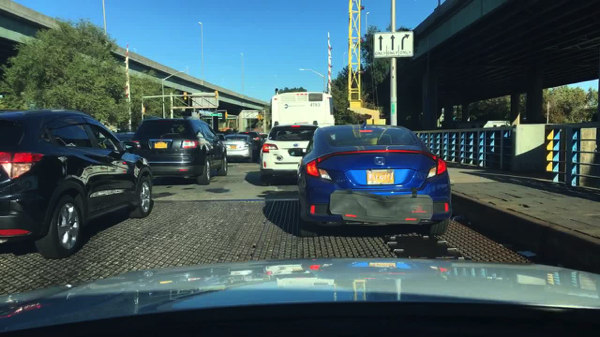bus: (270, 88, 335, 128)
car: (0, 108, 154, 260), (295, 123, 452, 237), (134, 117, 228, 186), (258, 124, 319, 182), (221, 134, 255, 163), (236, 132, 262, 161), (109, 130, 139, 154), (259, 133, 268, 143)
traffic light: (258, 114, 261, 120), (225, 112, 227, 119)
traffic sign: (373, 30, 413, 59), (191, 92, 219, 107), (210, 113, 222, 117)
truck: (235, 108, 266, 135)
